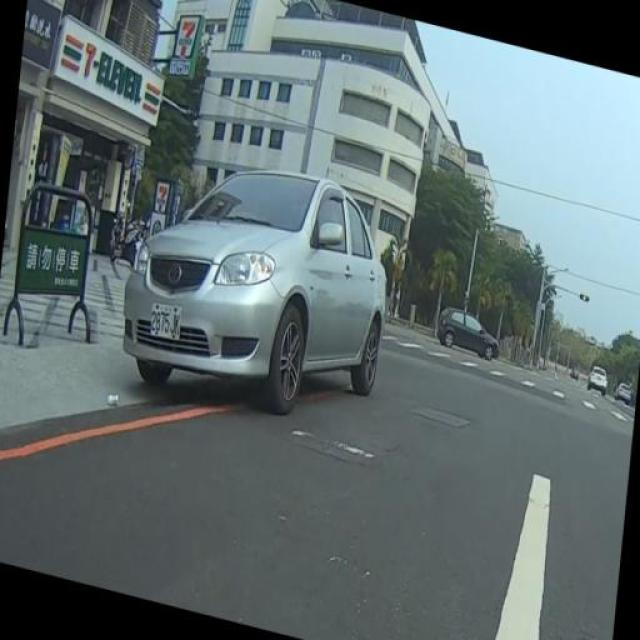Legalparking: (102, 157, 418, 429)
